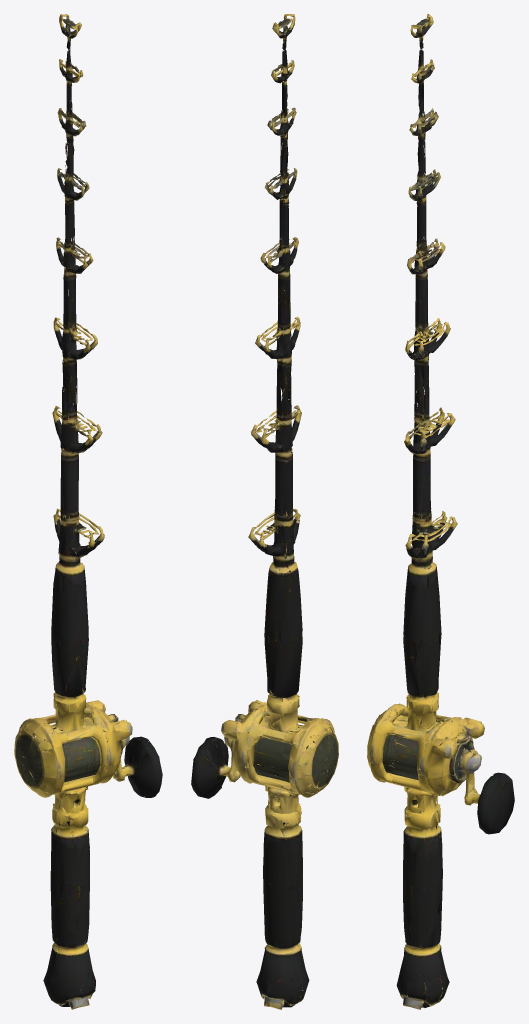
Rendered from marlin-rod.glb.
3 views of the same model, side by side, from view 1: azimuth 30°, elevation 25°; view 2: azimuth 150°, elevation 25°; view 3: azimuth 330°, elevation 25° (orthographic).
Parts seen in each view (by area): view 1: Mesh_0; view 2: Mesh_0; view 3: Mesh_0.
Part boxes in pixels (x1,y1,x2,y2): Mesh_0: (14,14,162,1009); Mesh_0: (191,14,338,1009); Mesh_0: (367,14,514,1009).
Size of the model in its own units: 0.2547 by 1.9 by 0.1444.
1 material, 1 textured.
